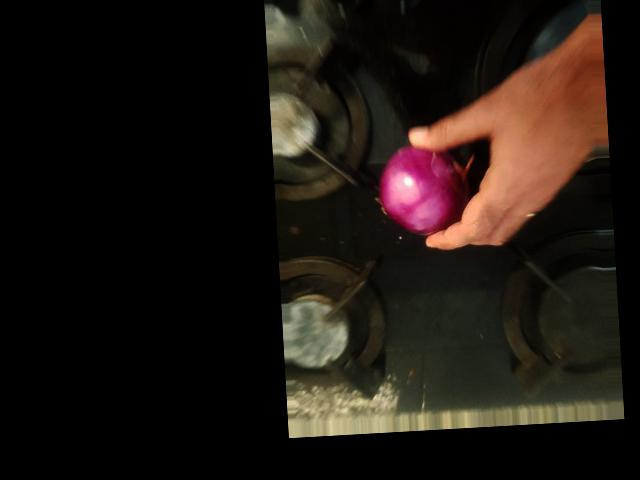onion: (339, 235, 427, 324)
